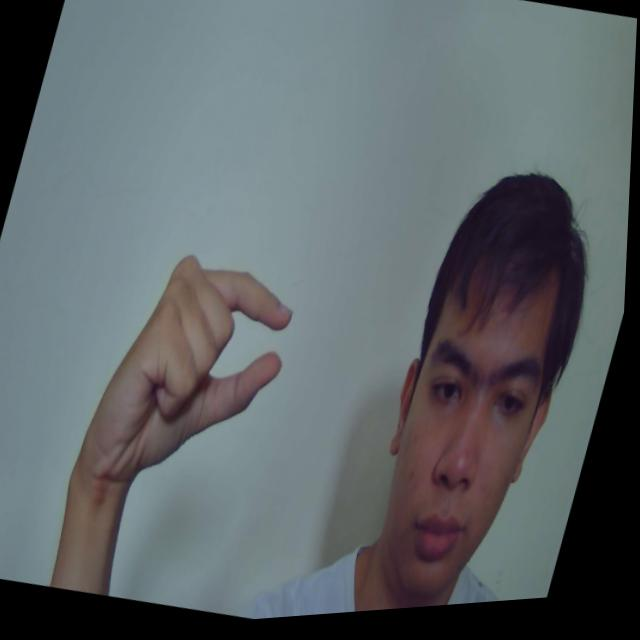G: (74, 235, 312, 516)
